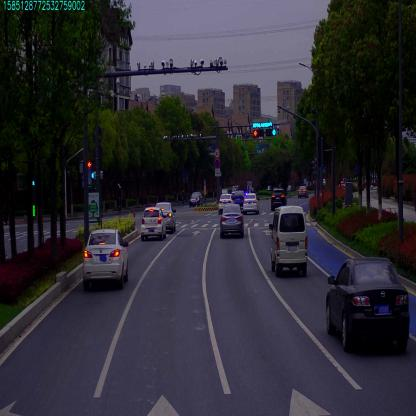traffic-light: (252, 122, 272, 128), (266, 128, 277, 137), (253, 131, 263, 136)
